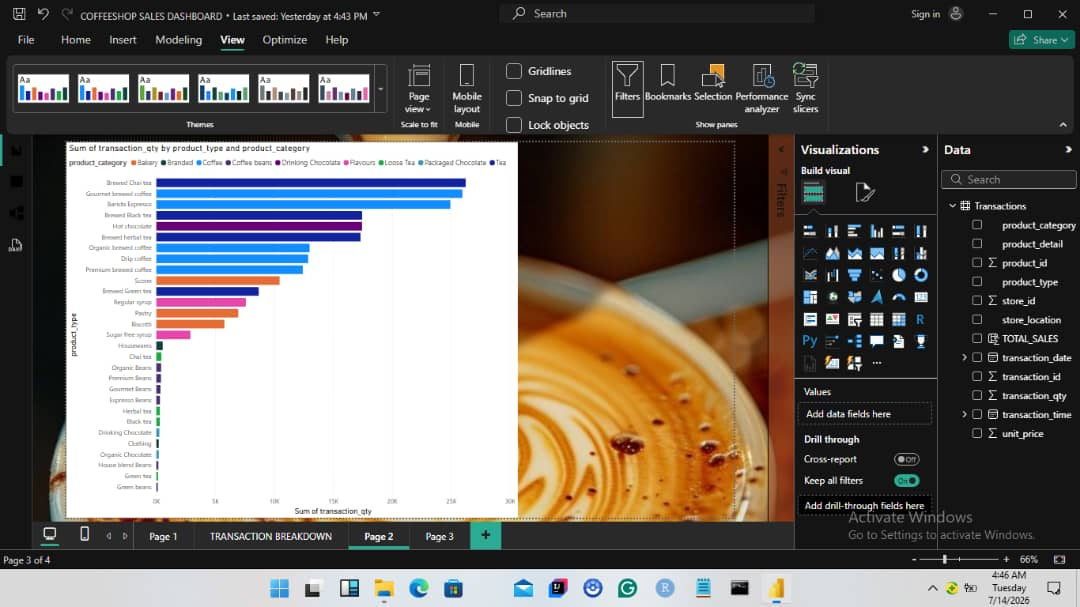

What the dashboard file says about the page in this screenshot:
{"tool":"powerbi","page":{"name":"Page 2","canvas":[1280,720],"ordinal":2},"visuals":[{"type":"barChart","fields":{"Category":["Transactions.product_type"],"Series":["Transactions.product_category"],"Y":["Sum(Transactions.transaction_qty)"]},"box":[0,0,864.9,720],"z":1}]}

Visuals, with their boxes on the page's 1280x720 design canvas (x1, y1, x2, y2). These are canvas units, not pixel positions in the 1080x607 screenshot, which may show the page scaled, cropped or inside an application window:
barChart - Transactions.product_type x Transactions.product_category: region(0, 0, 865, 720)
